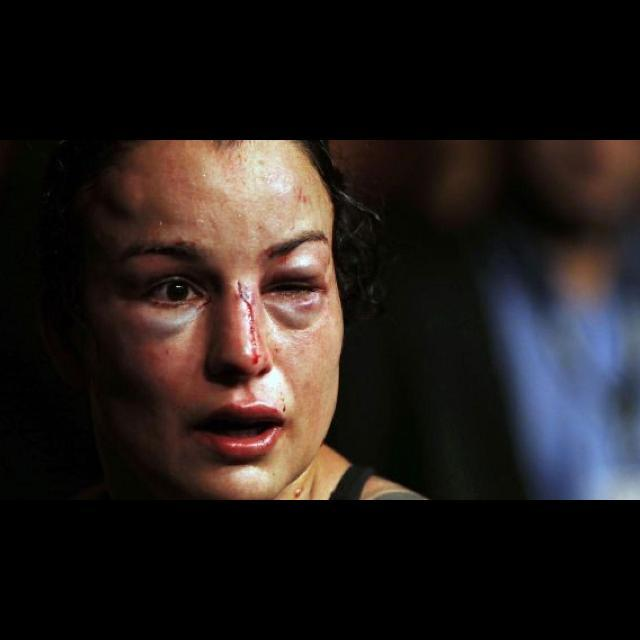blood: (237, 280, 271, 379)
